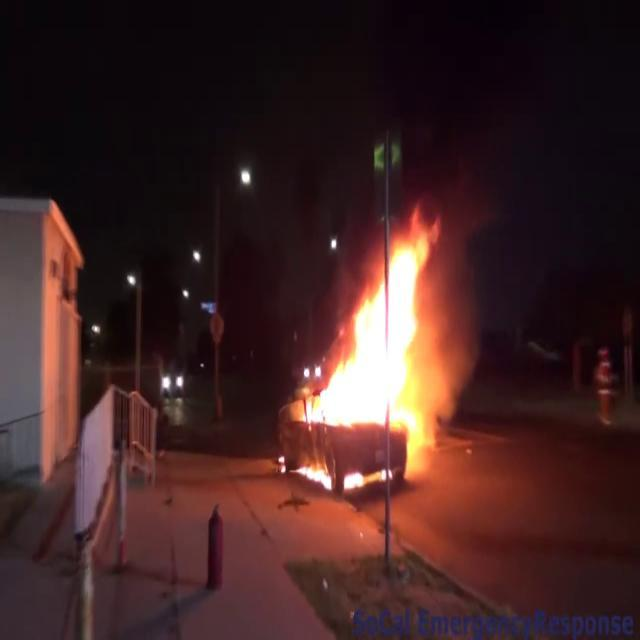Fire: (291, 210, 447, 479)
